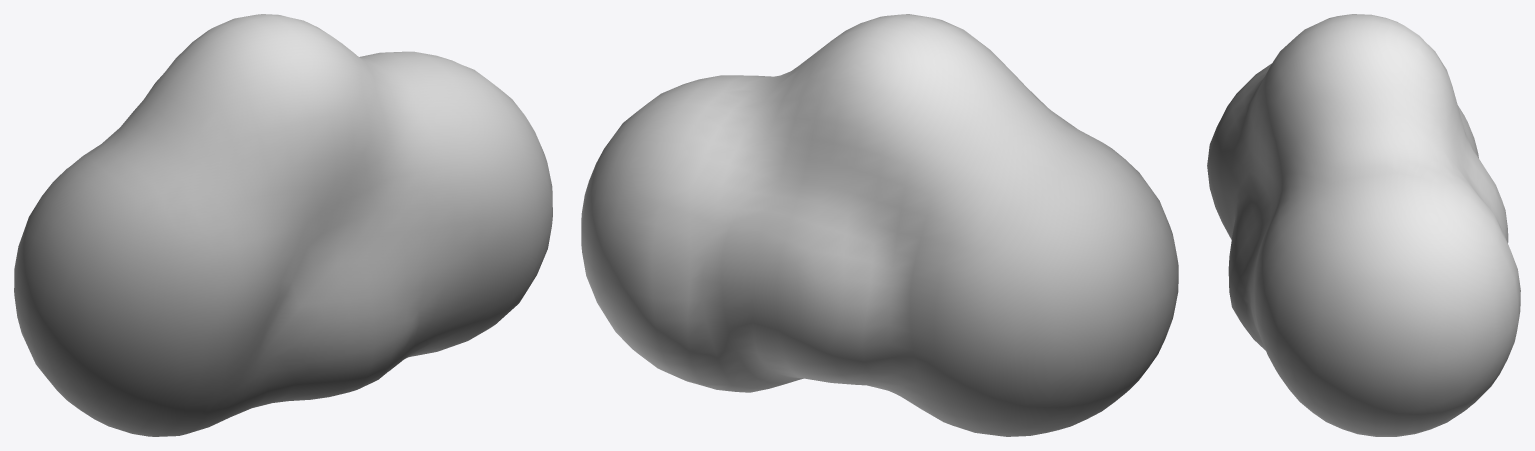
File: 3_Berawan.fbx
The picture shows the model from 3 angles, left to right: view 1: azimuth 30°, elevation 25°; view 2: azimuth 150°, elevation 25°; view 3: azimuth 270°, elevation 25°; orthographic projection. The views are drawn at different scales.
Visible parts, largest first — view 1: Berawan; view 2: Berawan; view 3: Berawan.
Boxes of the visible parts, x1,y1,x2,y2 form: Berawan: (14,14,552,436); Berawan: (581,14,1178,436); Berawan: (1207,14,1520,436).
Size of the model in its own units: 478 by 324 by 275.
